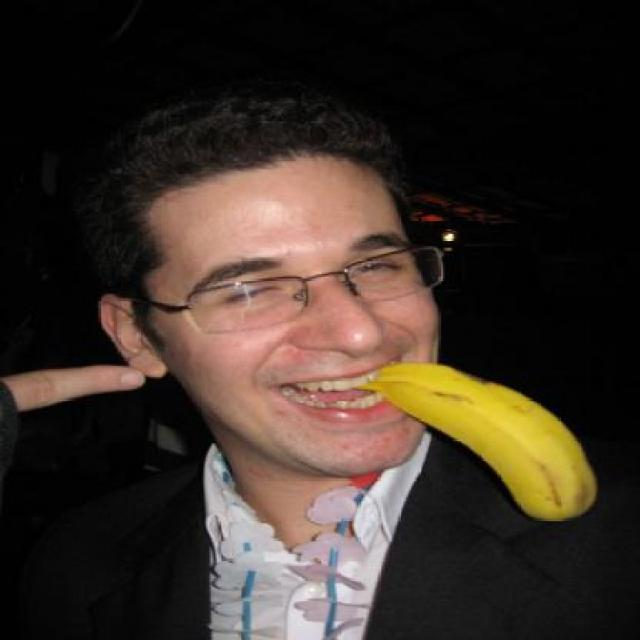Banana: (352, 348, 606, 524)
